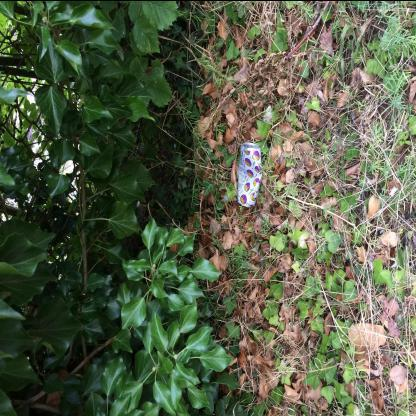metal: (238, 142, 263, 208)
